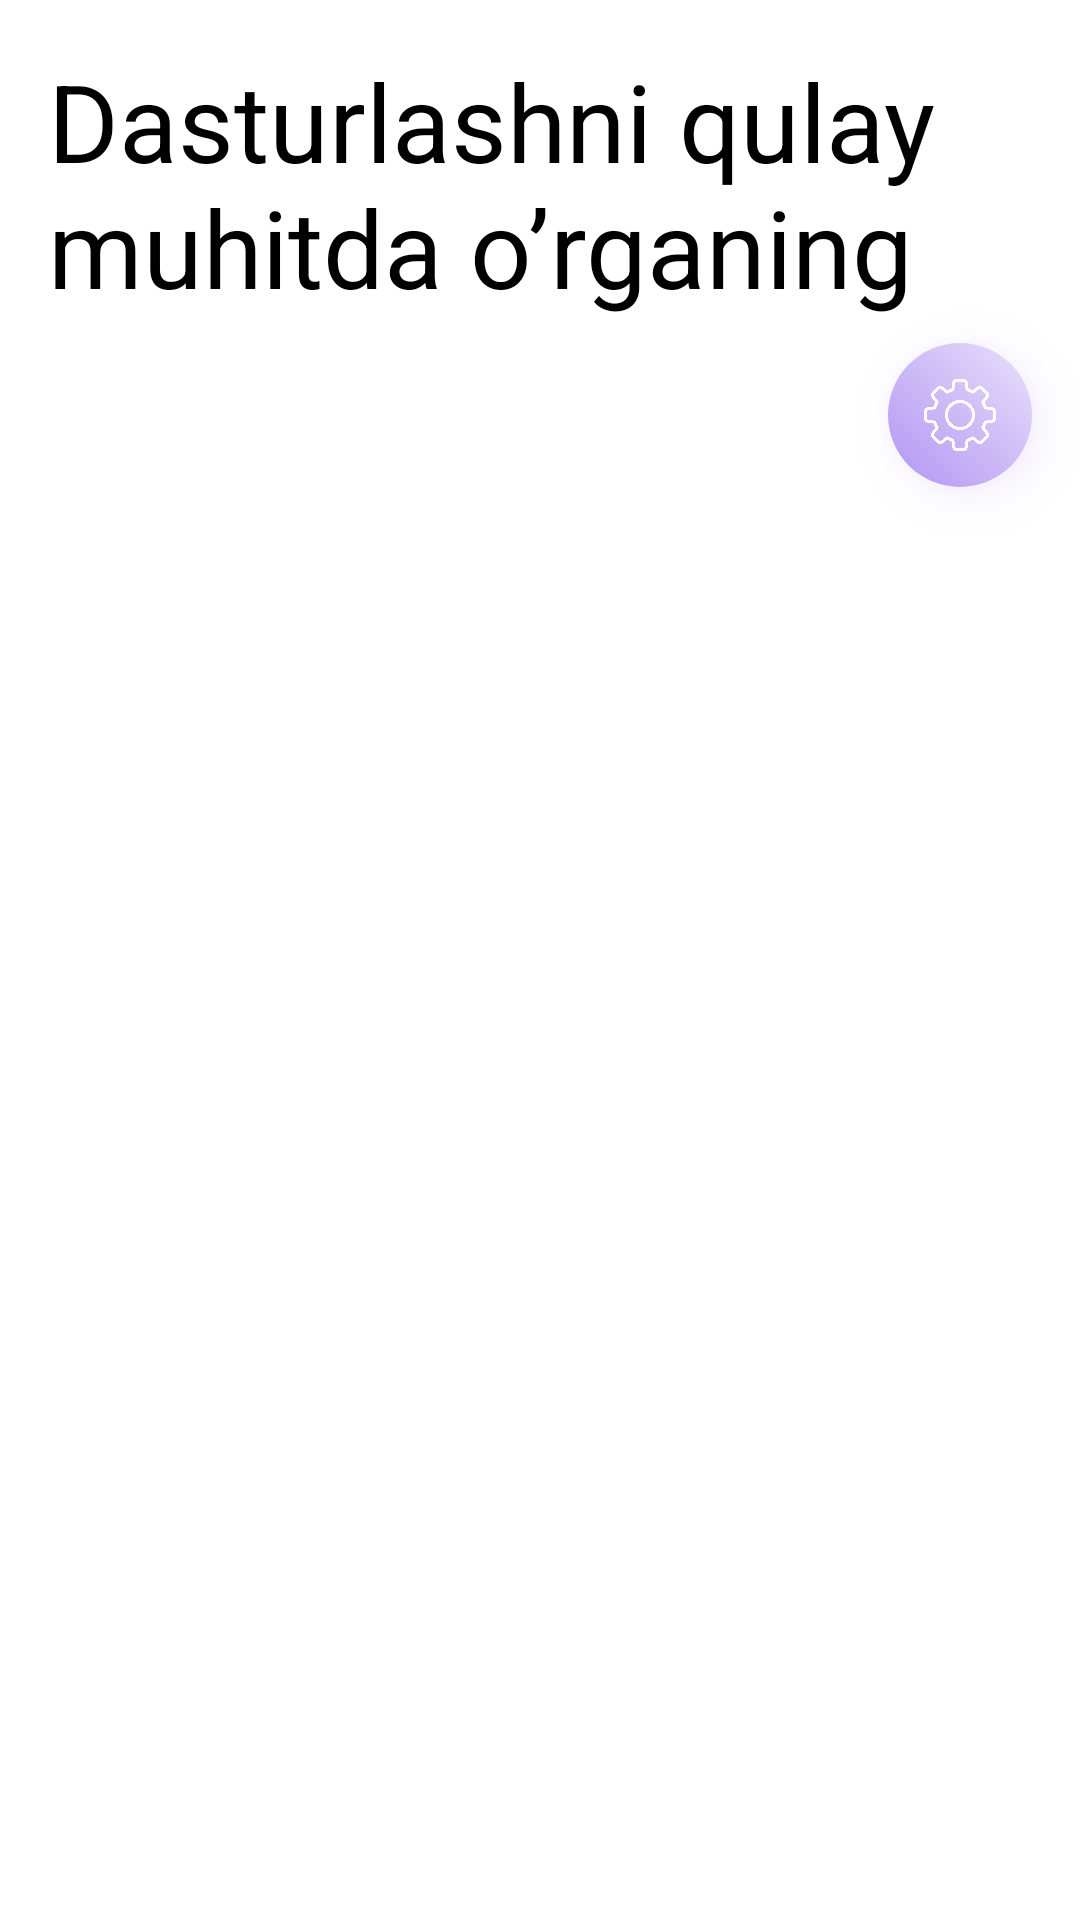

Icon bounding boxes for this 1080*1920 phone screenshot, format BBox(x1, y1, x2, y2):
settings: BBox(888, 343, 1032, 487)
